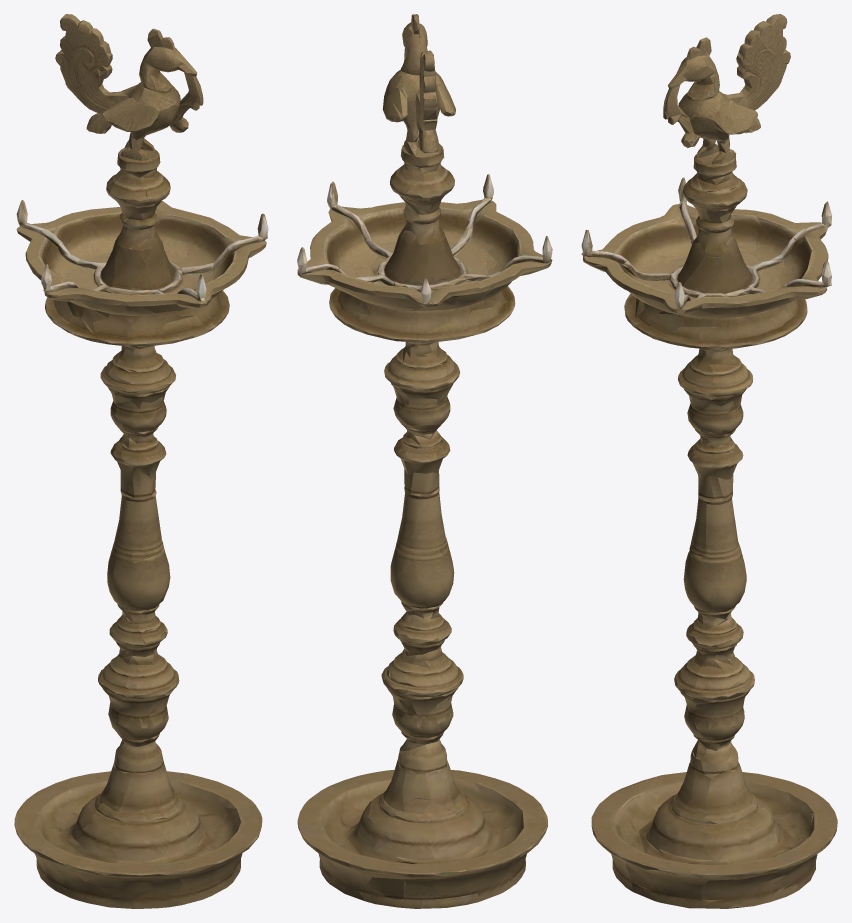
The model's file is lamp.glb.
The picture shows the model from 3 angles, left to right: view 1: azimuth 30°, elevation 25°; view 2: azimuth 150°, elevation 25°; view 3: azimuth 270°, elevation 25°; orthographic projection.
Parts seen in each view (by area): view 1: placed; view 2: placed; view 3: placed.
Part boxes in pixels (x1,y1,x2,y2): placed: [14, 14, 268, 908]; placed: [297, 14, 552, 908]; placed: [581, 14, 837, 908].
Bounding box in the file's own units: 0.3507 × 1.25 × 0.3486.
Materials: 1 (1 with a texture image).
